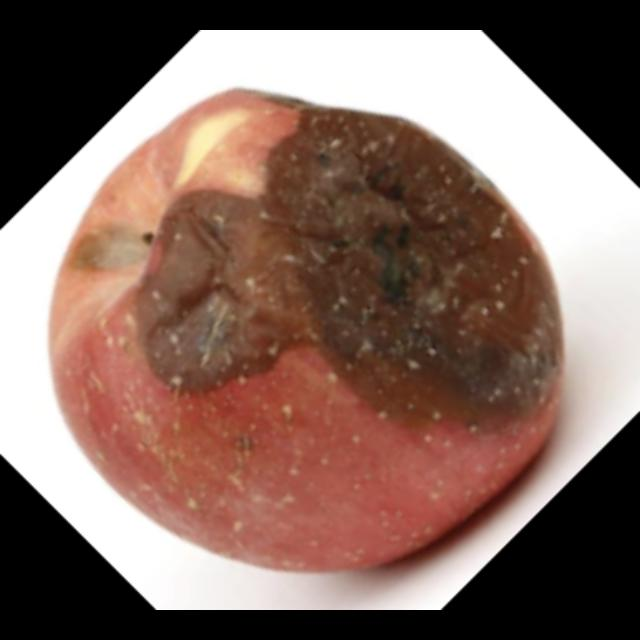Apel Tidak Segar: (44, 62, 592, 586)
